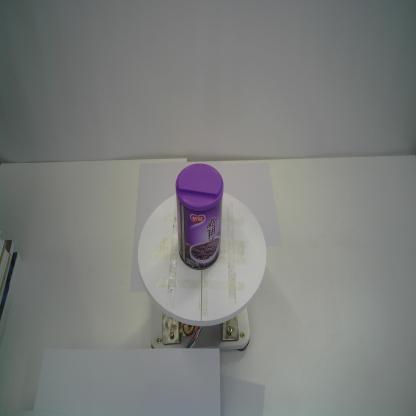Canned Food: (174, 162, 225, 272)
